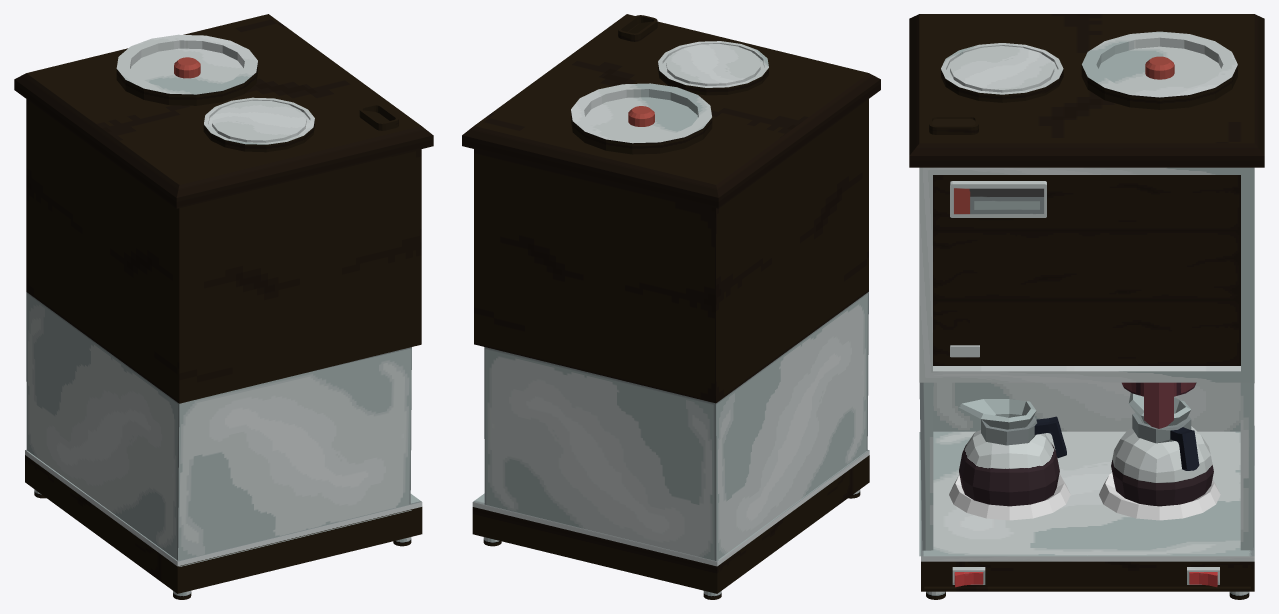
Rendered from faqueteirapronta.fbx.
3 views of the same model, side by side, from view 1: azimuth 30°, elevation 25°; view 2: azimuth 150°, elevation 25°; view 3: azimuth 270°, elevation 25° (orthographic). The views are drawn at different scales.
Parts seen in each view (by area): view 1: Base, Base de metal, Botão, Tampa 1, Tampa 2, Base de metal em baixo, Saida de ar; view 2: Base, Base de metal, Botão, Tampa 1, Tampa 2, Base de metal em baixo, Saida de ar; view 3: Base.001, Base, Base de metal em baixo, Base de metal, Tampa 1, Botão, Garrafa 1, Garrafa 1.001, Tampa 2, Base do Cafe, Placa 2, Filtro (+5 smaller).
Boxes of the visible parts, x1,y1,x2,y2 form: Base: (14, 14, 433, 403); Base de metal: (26, 292, 411, 560); Botão: (25, 455, 422, 593); Tampa 1: (116, 34, 257, 105); Tampa 2: (203, 97, 314, 152); Base de metal em baixo: (25, 450, 422, 566); Saida de ar: (359, 104, 398, 130); Base: (462, 14, 880, 403); Base de metal: (484, 292, 868, 560); Botão: (472, 455, 869, 593); Tampa 1: (571, 83, 712, 154); Tampa 2: (658, 41, 768, 95); Base de metal em baixo: (472, 450, 869, 566); Saida de ar: (618, 15, 657, 41); Base.001: (933, 175, 1240, 365); Base: (909, 14, 1264, 382); Base de metal em baixo: (921, 426, 1254, 561); Base de metal: (919, 382, 1254, 550); Tampa 1: (1081, 31, 1237, 109); Botão: (921, 561, 1254, 591); Garrafa 1: (958, 399, 1059, 506); Garrafa 1.001: (1111, 392, 1213, 506); Tampa 2: (941, 43, 1063, 102); Base do Cafe: (949, 473, 1220, 520); Placa 2: (950, 181, 1046, 357); Filtro: (1122, 382, 1196, 428).
Bounding box in the file's own units: 96.62 × 153 × 104.
Materials: 14 (14 with a texture image).
